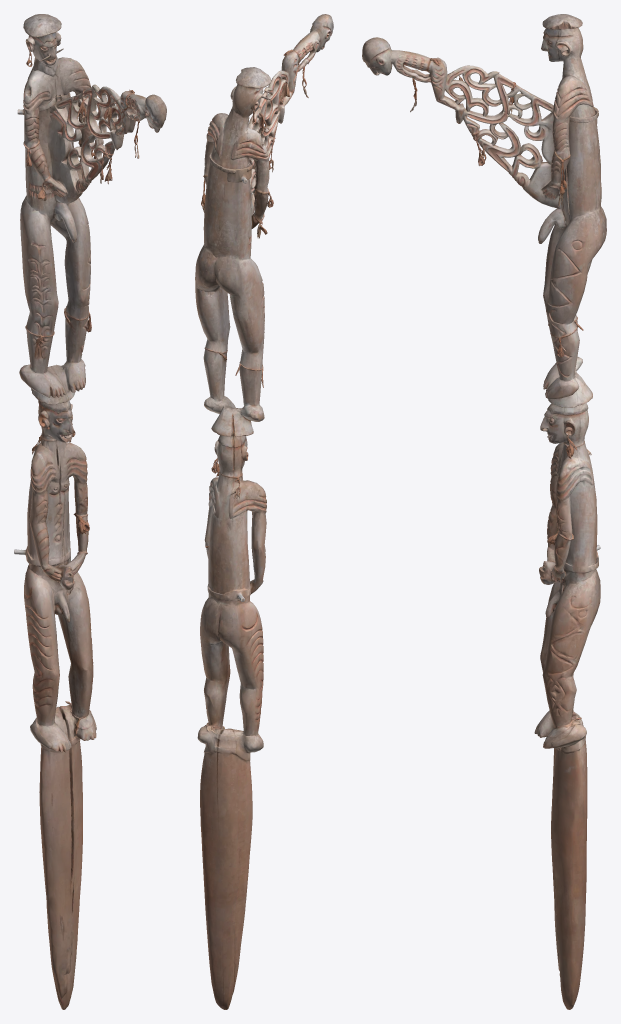
Rendered from preview.glb.
3 views of the same model, side by side, from view 1: azimuth 30°, elevation 25°; view 2: azimuth 150°, elevation 25°; view 3: azimuth 270°, elevation 25° (orthographic). The views are drawn at different scales.
Visible parts, largest first — view 1: ADVIMG_1978_412_1254_BisPole04_12Mil__n3d; view 2: ADVIMG_1978_412_1254_BisPole04_12Mil__n3d; view 3: ADVIMG_1978_412_1254_BisPole04_12Mil__n3d.
Boxes of the visible parts, bbox=[...] form: ADVIMG_1978_412_1254_BisPole04_12Mil__n3d: bbox=[14, 14, 166, 1009]; ADVIMG_1978_412_1254_BisPole04_12Mil__n3d: bbox=[195, 14, 333, 1009]; ADVIMG_1978_412_1254_BisPole04_12Mil__n3d: bbox=[362, 14, 606, 1009].
Bounding box in the file's own units: 0.3605 × 4.72 × 1.07.
Materials: 1 (1 with a texture image).
